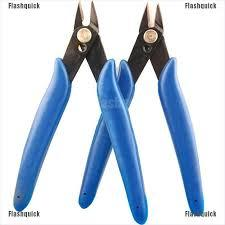pliers: (11, 0, 142, 212), (77, 0, 201, 209)
